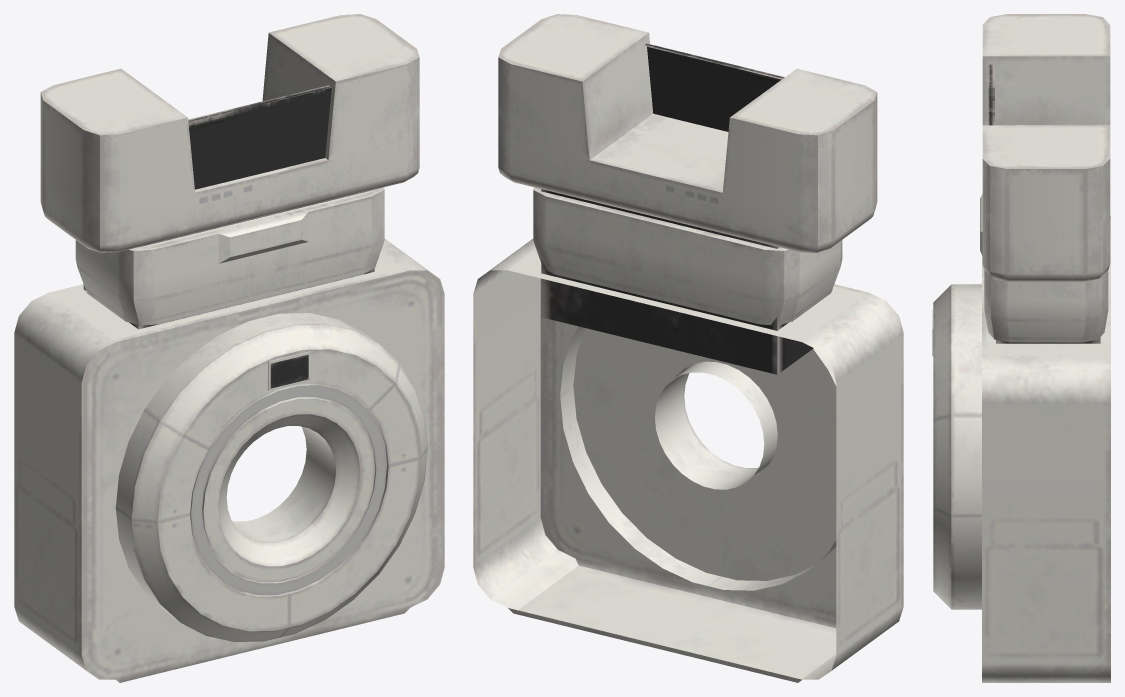
File: sm23_038_mri01a.fbx
3 renders of one model, left to right at view 1: azimuth 30°, elevation 25°; view 2: azimuth 150°, elevation 25°; view 3: azimuth 270°, elevation 25°, orthographic. The views are drawn at different scales.
Visible parts, largest first — view 1: LOD_1_Group_0_Sub_1__sm23_038_Mri01A_A_Mat__Env_Default; view 2: LOD_1_Group_0_Sub_1__sm23_038_Mri01A_A_Mat__Env_Default; view 3: LOD_1_Group_0_Sub_1__sm23_038_Mri01A_A_Mat__Env_Default.
Part boxes in pixels (x1,y1,x2,y2): LOD_1_Group_0_Sub_1__sm23_038_Mri01A_A_Mat__Env_Default: (14, 14, 444, 682); LOD_1_Group_0_Sub_1__sm23_038_Mri01A_A_Mat__Env_Default: (473, 14, 903, 682); LOD_1_Group_0_Sub_1__sm23_038_Mri01A_A_Mat__Env_Default: (932, 14, 1110, 682).
Bounding box in the file's own units: 2.17 × 3.14 × 0.9706.
